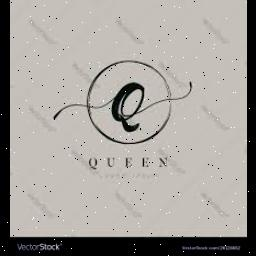e: (124, 156, 134, 170)
n: (156, 157, 172, 169)
q: (108, 80, 148, 136), (86, 156, 100, 172)
u: (106, 156, 116, 172)
